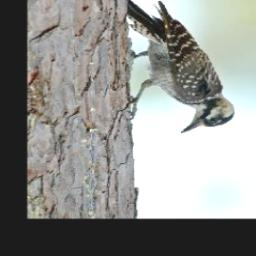Woodpecker: (115, 0, 238, 134)
